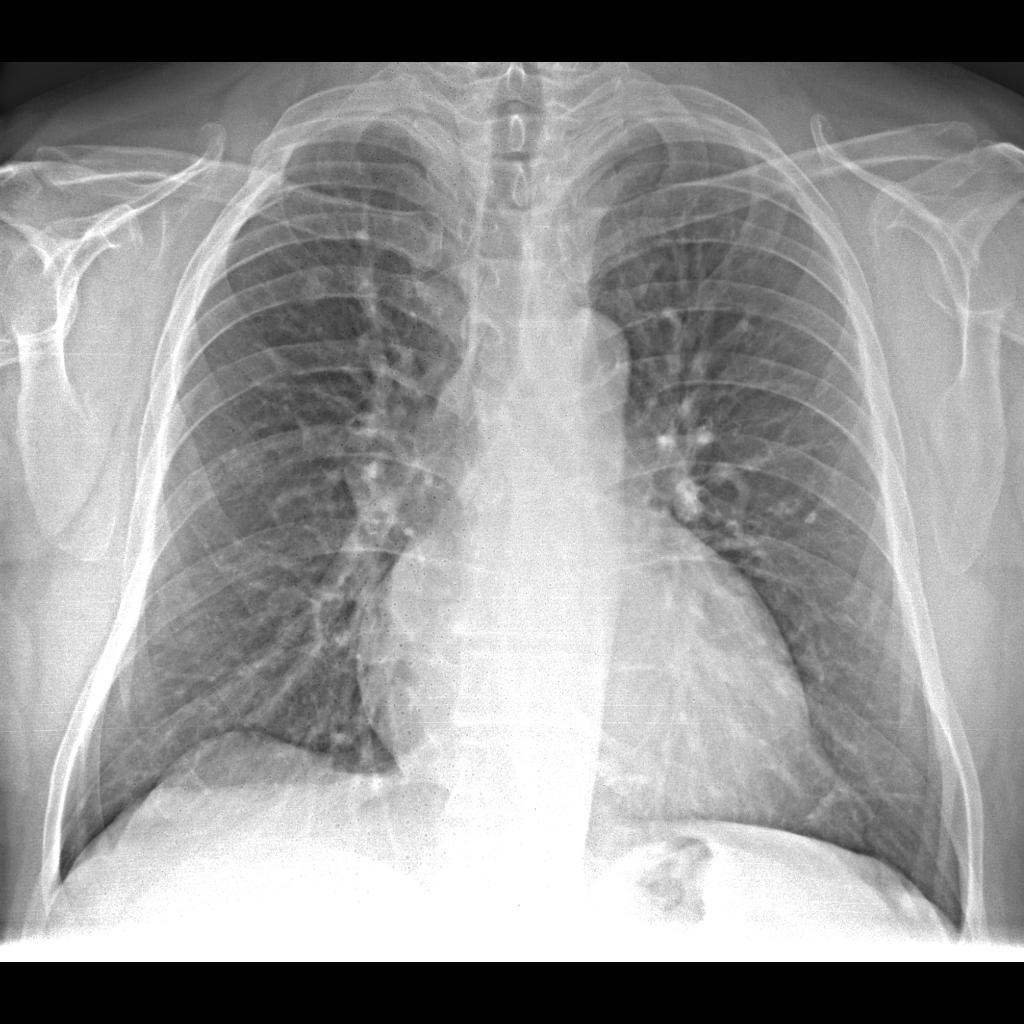Nodule: (295, 268, 332, 308)
